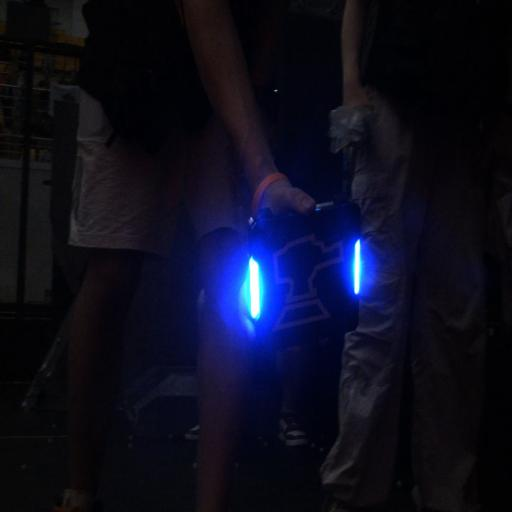target: (241, 216, 371, 347)
